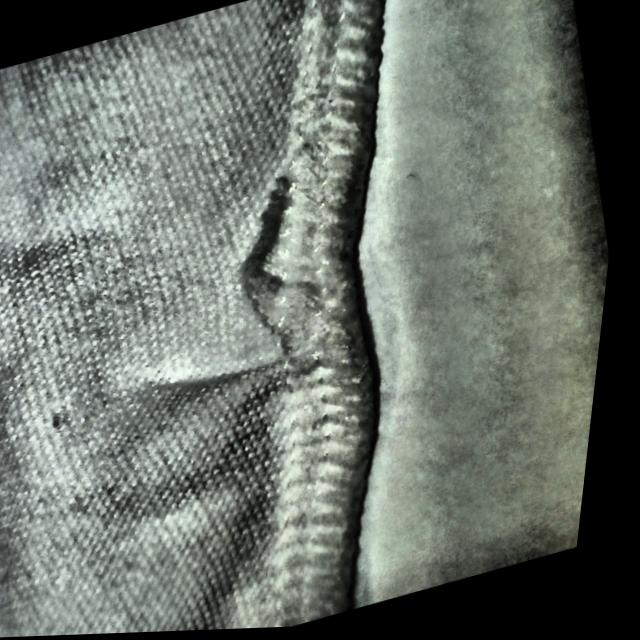seam: (126, 157, 409, 436)
